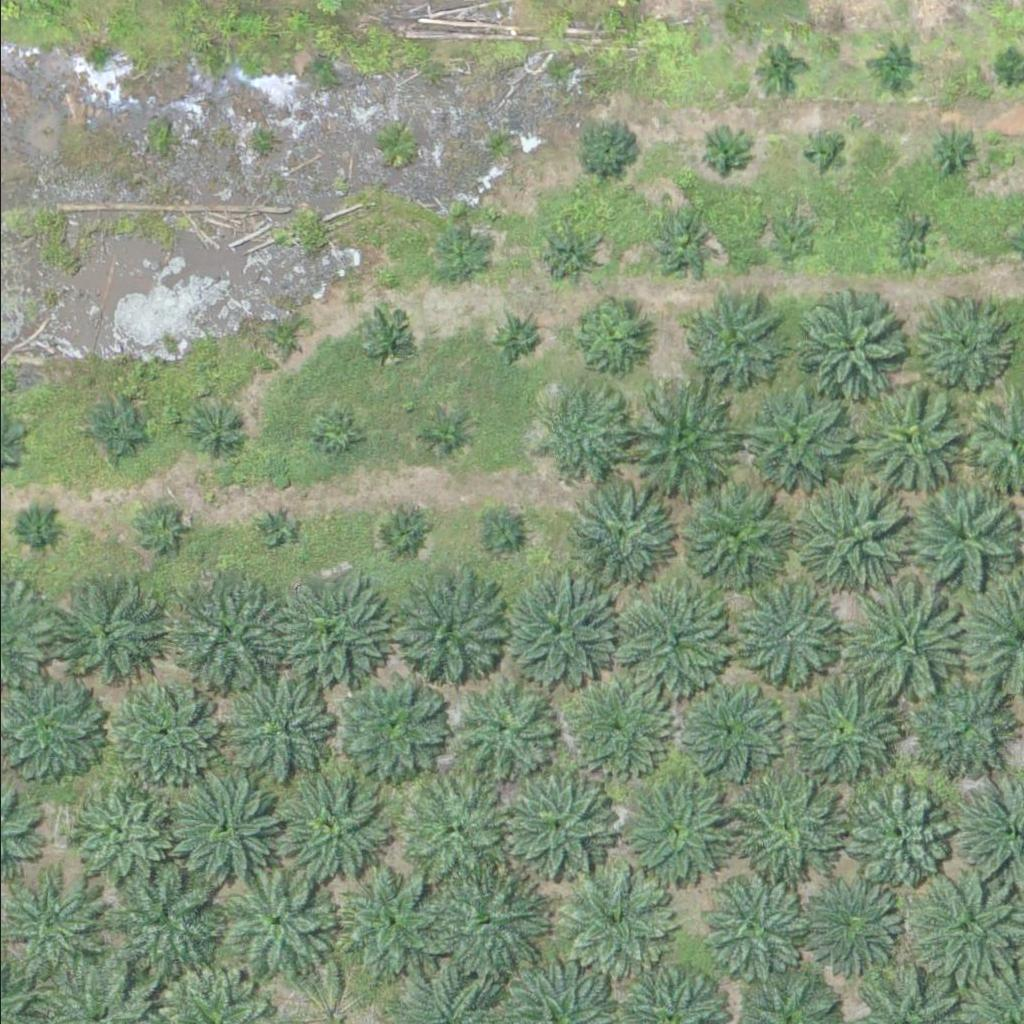Kelapa_Sawit: (717, 763, 843, 888), (607, 773, 733, 898), (790, 472, 916, 597), (842, 579, 968, 704), (499, 758, 625, 883), (617, 587, 731, 700), (900, 871, 1013, 984), (906, 476, 1019, 589), (797, 865, 910, 978), (562, 473, 675, 586), (273, 577, 386, 690), (171, 578, 284, 691), (56, 578, 169, 691), (562, 665, 675, 778), (401, 774, 514, 887), (108, 861, 221, 974), (216, 869, 329, 982), (333, 865, 446, 978), (431, 859, 544, 972), (673, 479, 787, 591), (617, 387, 731, 499), (733, 383, 847, 495), (850, 386, 964, 498), (561, 865, 675, 977), (688, 874, 801, 986), (839, 780, 952, 892), (785, 675, 898, 787), (496, 575, 609, 687), (384, 575, 497, 687), (335, 672, 448, 784), (450, 679, 563, 791), (277, 777, 390, 889), (170, 773, 283, 885), (669, 678, 770, 778), (729, 590, 830, 690), (116, 688, 217, 788), (230, 684, 331, 784), (62, 785, 163, 885), (906, 666, 1006, 766), (800, 299, 900, 399), (674, 287, 774, 387), (563, 289, 651, 376), (916, 304, 1004, 391), (536, 389, 624, 476), (536, 224, 599, 287), (577, 119, 640, 182), (646, 218, 709, 280), (182, 403, 245, 465), (85, 402, 148, 464), (484, 312, 547, 374), (752, 41, 803, 91), (698, 125, 749, 175), (137, 505, 188, 555), (13, 501, 64, 551), (430, 231, 480, 281), (366, 307, 416, 357), (887, 223, 937, 273), (870, 43, 920, 93), (310, 409, 360, 459), (419, 410, 469, 460), (768, 212, 818, 262), (928, 128, 978, 178), (478, 507, 528, 557), (375, 508, 425, 558), (805, 132, 843, 170), (264, 324, 302, 362), (255, 507, 293, 545), (998, 53, 1023, 78)
